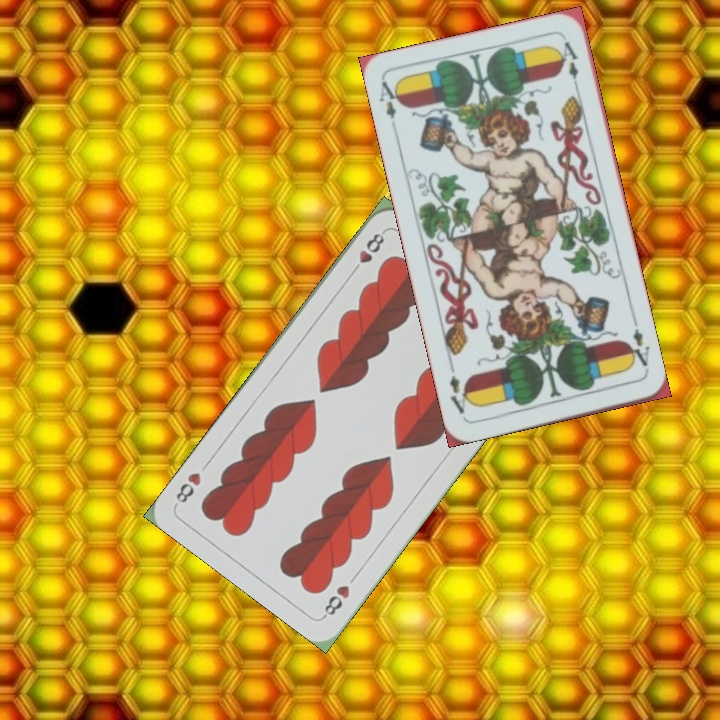EA: (622, 324, 652, 375), (375, 77, 404, 122)
H8: (347, 227, 388, 278), (319, 581, 353, 620)
